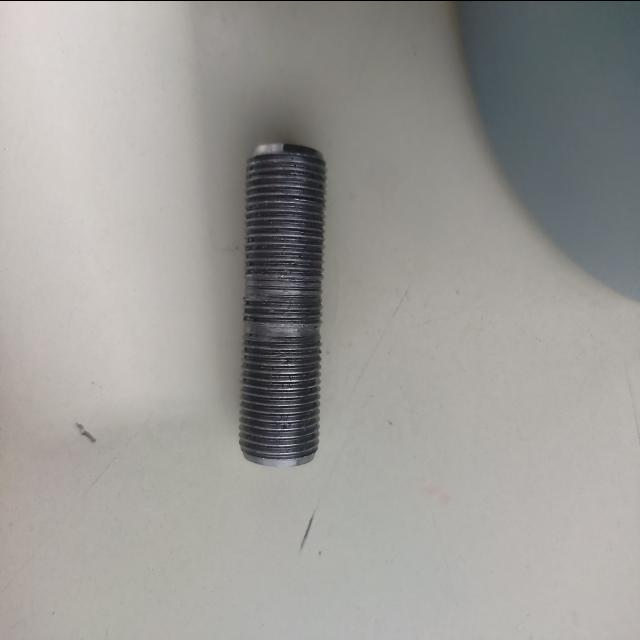Broken: (238, 142, 328, 466)
